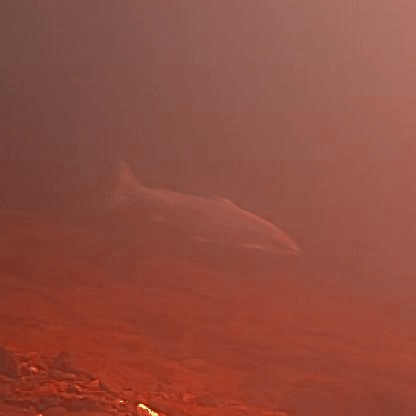salmon: (95, 151, 305, 258)
